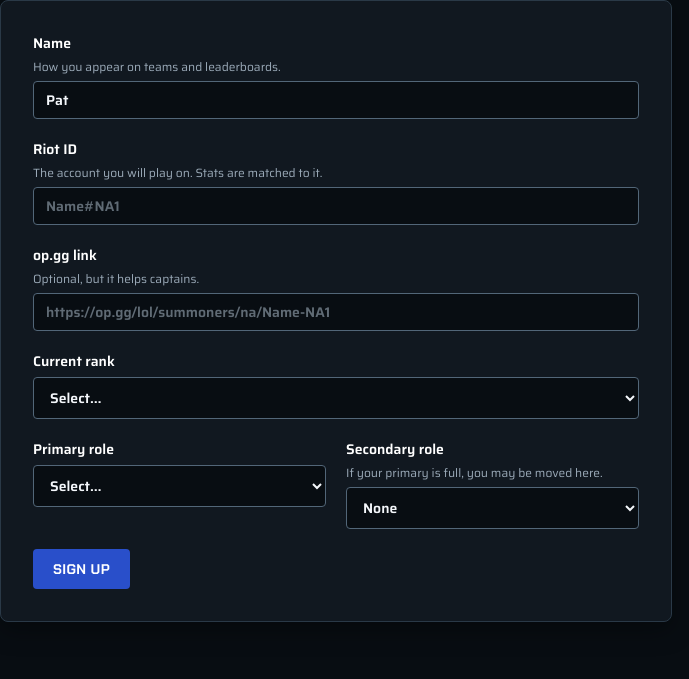
Test case: OffseasonSignupForm › sends the sign-up and confirms it
Type "Pat Doe#NA1" into the field labelled "Riot ID" at (336, 206), box [33,187,639,225]
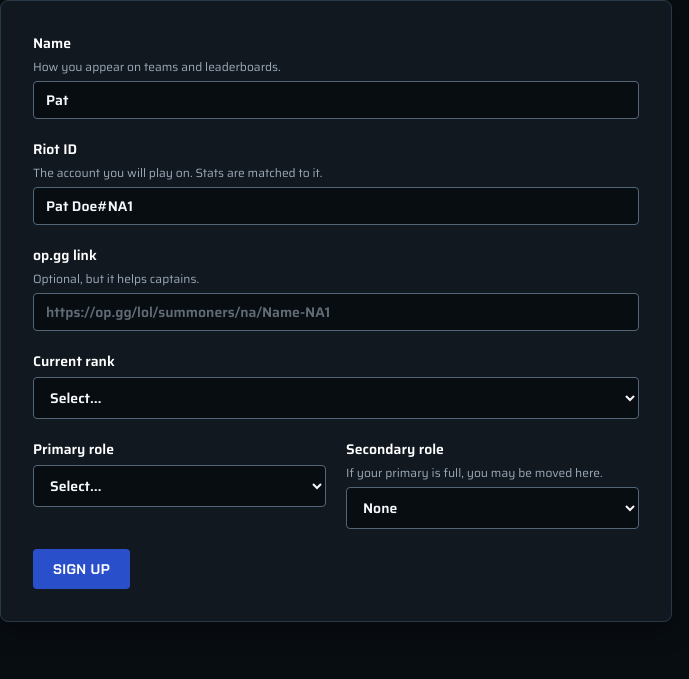
Select "Gold 2" in the dropdown labelled "Current rank" at (336, 398), box [33,377,639,419]
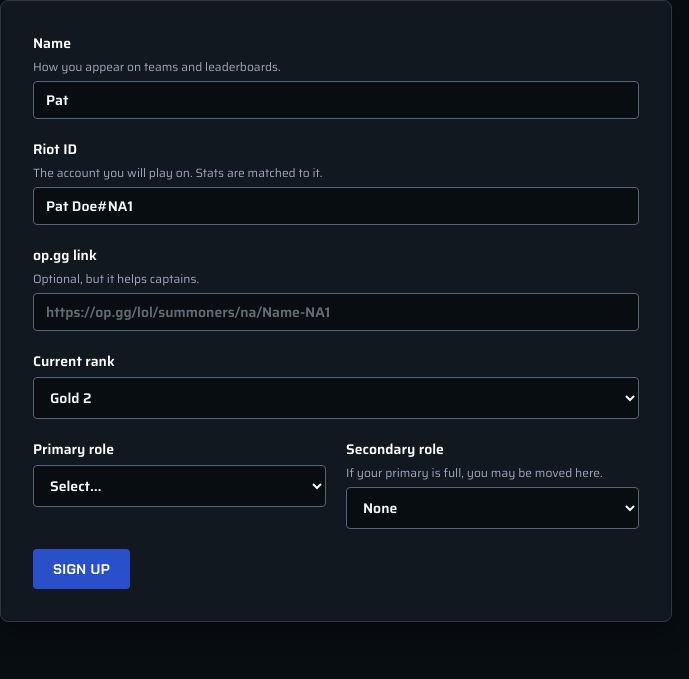
Select "Mid" in the dropdown labelled "Primary role" at (180, 486), box [33,465,326,507]
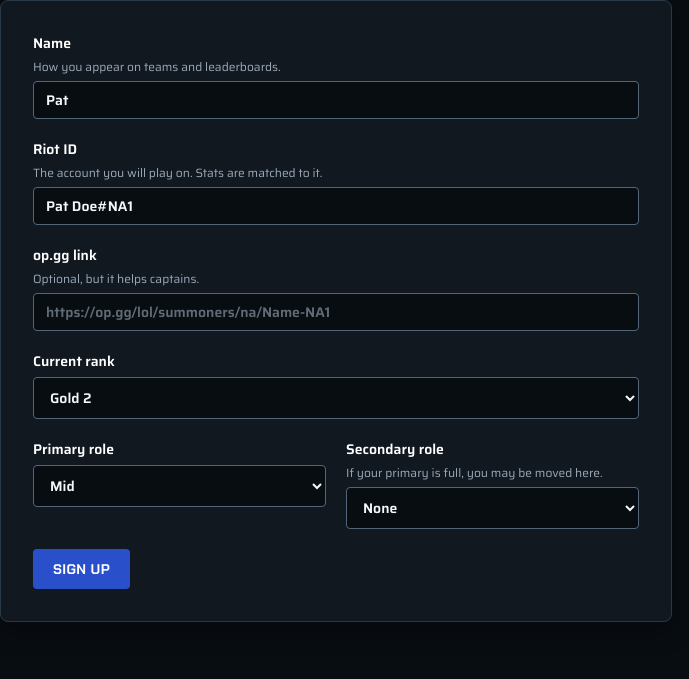
Select "Top" in the dropdown labelled "Secondary role" at (492, 508), box [346,487,639,529]
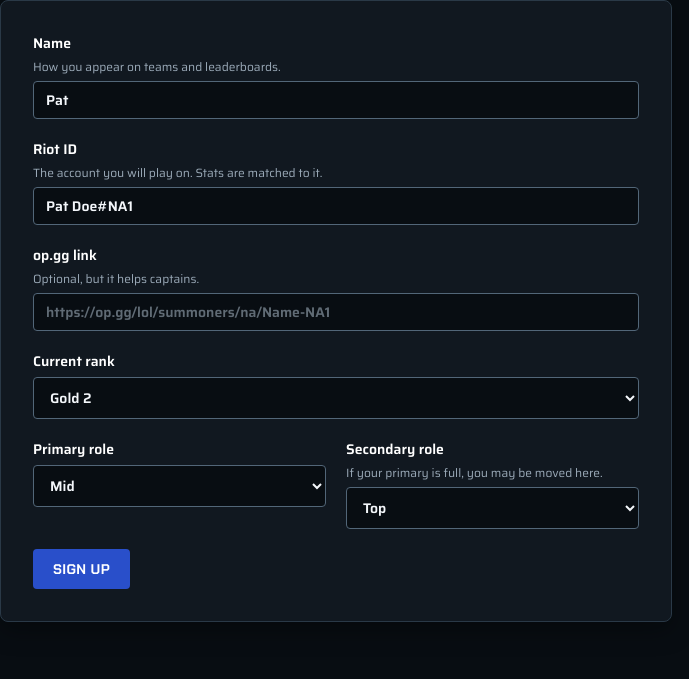
Click the button "Sign up" at (82, 569), box [33,549,130,589]
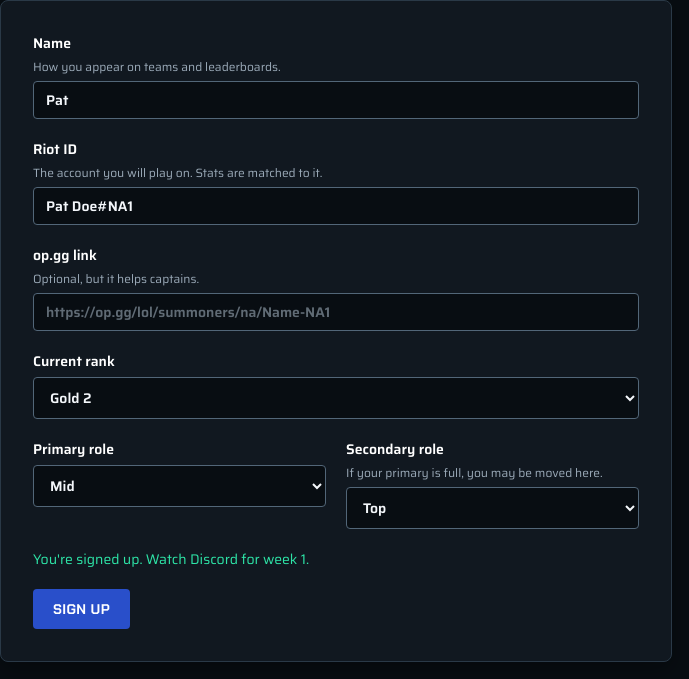
Expected: the message shows "signed up", [33,548,309,570]
